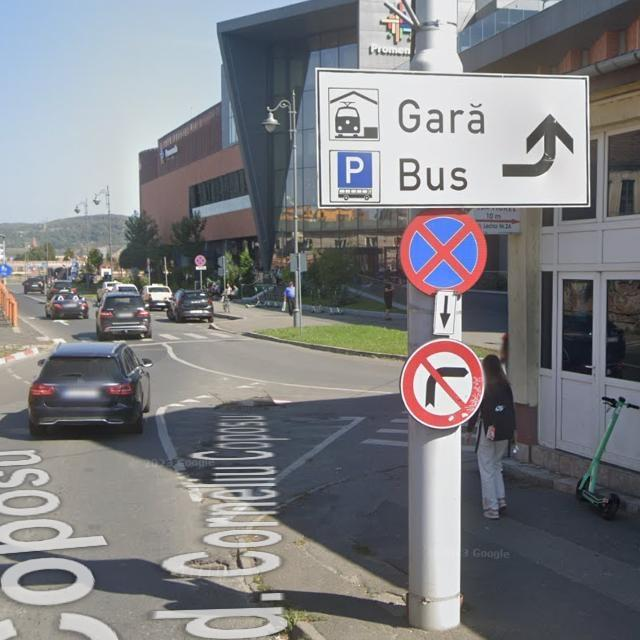forb_waiting: (400, 204, 487, 299), (195, 256, 206, 266)
